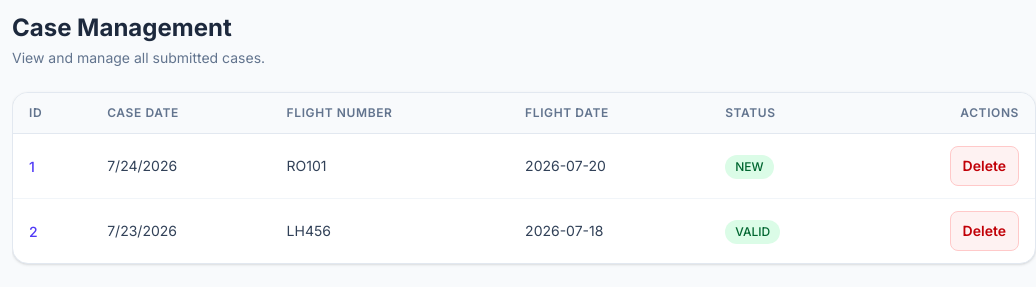
Test: CaseManagementPage › shows success message after deletion
Check: the text "RO101" is shown, box [271,134,509,198]
Click the button "Delete" in the row of "7/24/2026".
click(984, 166)  # box [950,146,1019,186]
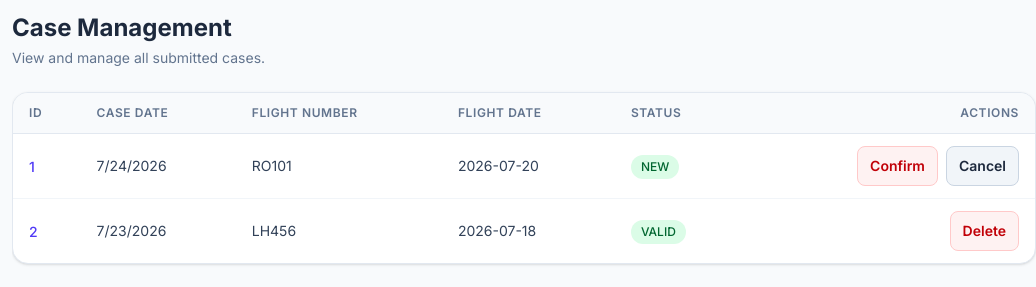
Click the button "Confirm".
click(898, 166)  # box [857,146,938,186]
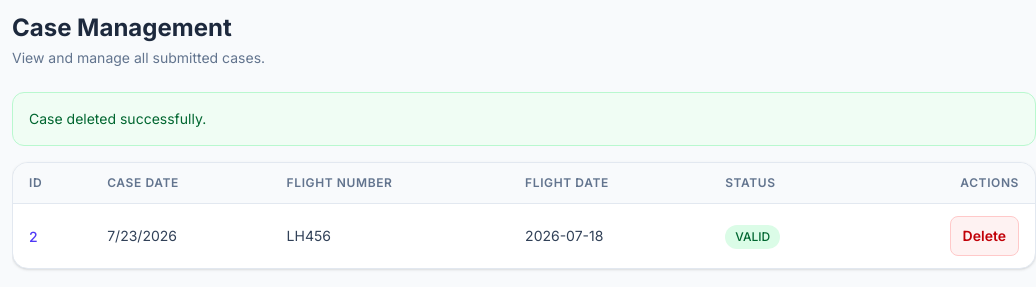
Check: the text "Case deleted successfully." is shown, box [12,92,1035,146]
